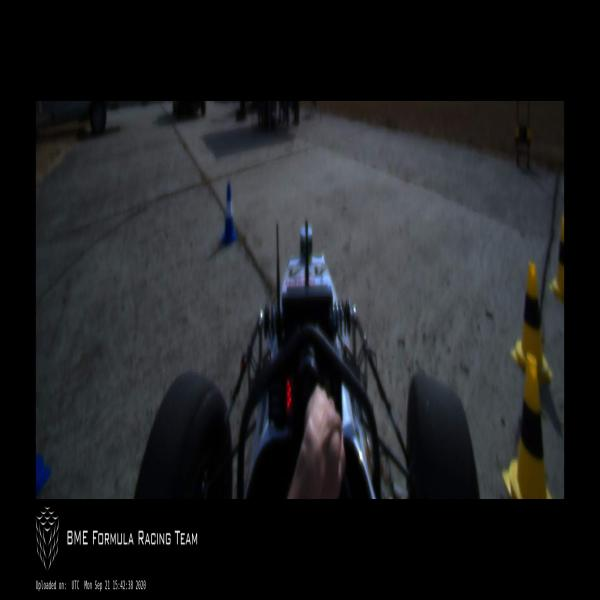blue_cone: (219, 182, 238, 248)
yellow_cone: (502, 355, 552, 498), (511, 260, 553, 379), (549, 215, 564, 304)
